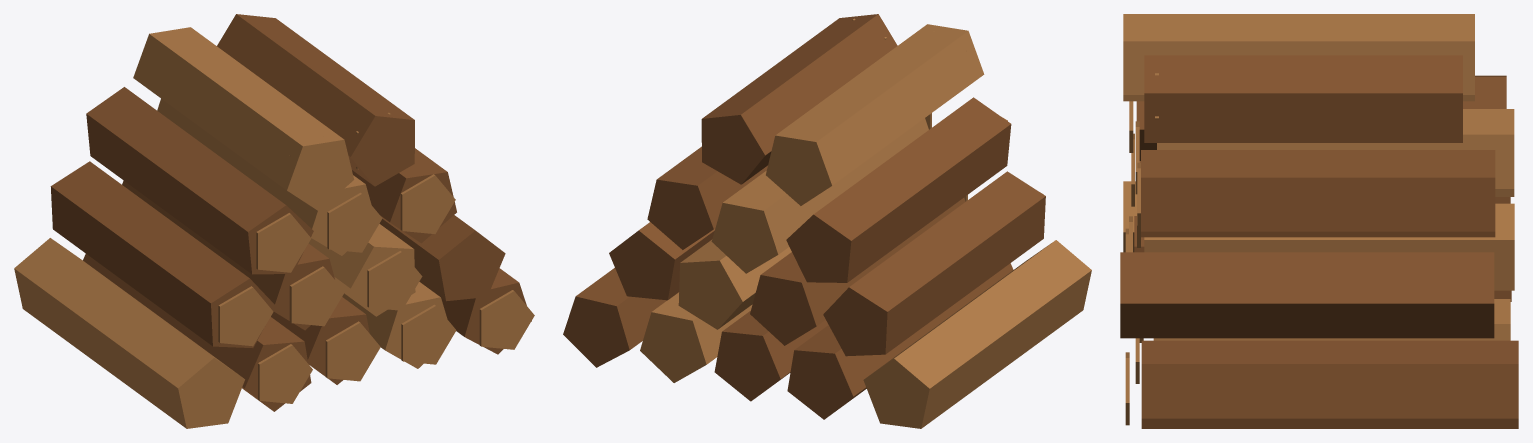
Rendered from Firewood_Pile.fbx.
3 views of the same model, side by side, from view 1: azimuth 30°, elevation 25°; view 2: azimuth 150°, elevation 25°; view 3: azimuth 270°, elevation 25° (orthographic). The views are drawn at different scales.
Visible parts, largest first — view 1: Firewood_Pile; view 2: Firewood_Pile; view 3: Firewood_Pile.
Part boxes in pixels (<box>): Firewood_Pile: <box>14,14,534,428</box>; Firewood_Pile: <box>563,14,1091,428</box>; Firewood_Pile: <box>1120,14,1518,428</box>.
Size of the model in its own units: 1.22 by 0.8644 by 1.02.
